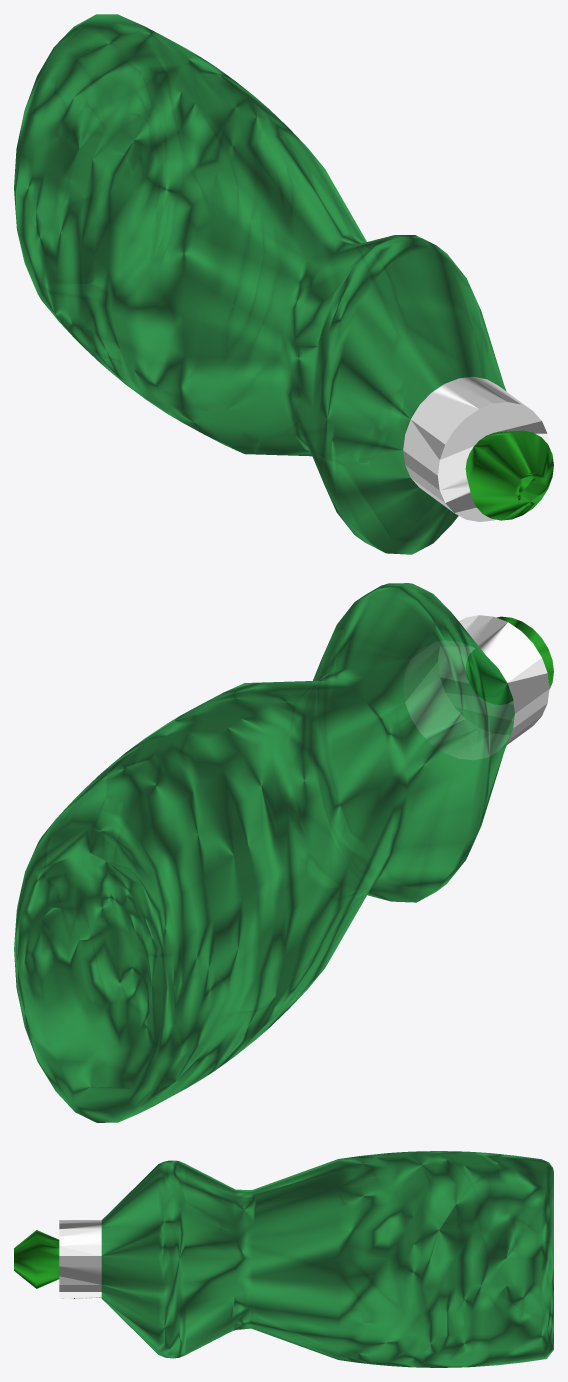
File: model_align.obj
The picture shows the model from 3 angles, top to bottom: view 1: azimuth 30°, elevation 25°; view 2: azimuth 150°, elevation 25°; view 3: azimuth 270°, elevation 25°; orthographic projection. The views are drawn at different scales.
Size of the model in its own units: 0.0534 by 0.0971 by 0.2261.
